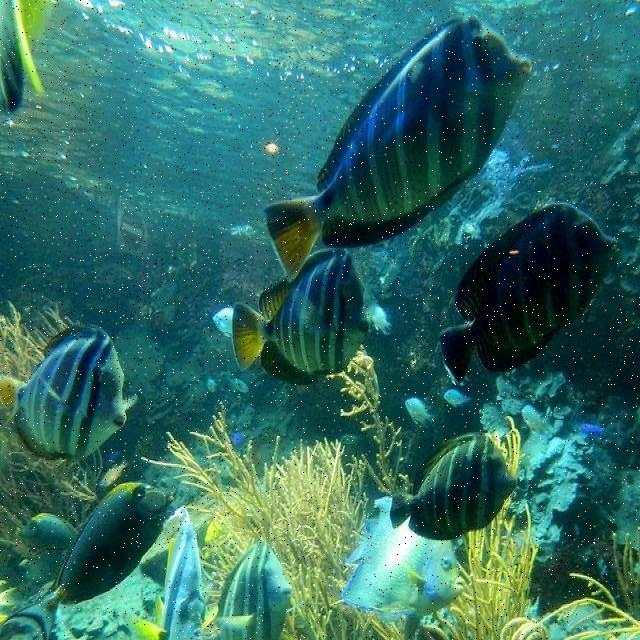aquatic plants: (139, 406, 404, 639), (422, 485, 550, 638), (329, 348, 414, 495)
fish: (261, 18, 534, 280), (438, 199, 616, 383), (1, 327, 138, 468), (232, 250, 370, 388), (387, 435, 521, 546), (344, 497, 462, 618), (57, 482, 170, 606), (124, 518, 218, 639), (0, 0, 58, 133), (215, 541, 290, 639), (21, 513, 77, 554), (405, 396, 434, 426), (520, 408, 552, 433), (99, 462, 130, 486), (213, 309, 233, 338), (371, 307, 394, 332), (444, 389, 475, 407), (229, 376, 250, 392), (578, 423, 602, 433), (207, 378, 216, 394)
